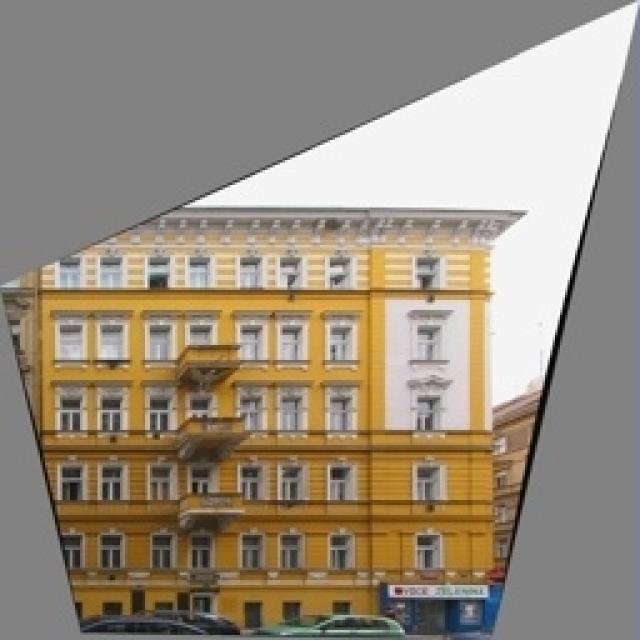building: (0, 190, 505, 640)
